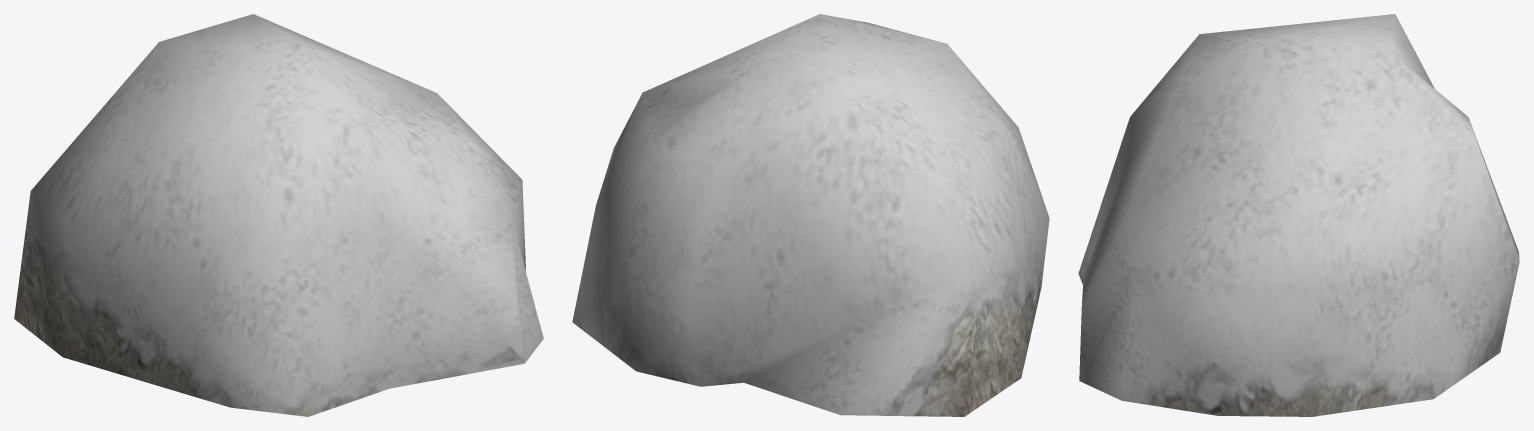
Rendered from general_obj_stone19_lod_01.fbx.
3 views of the same model, side by side, from view 1: azimuth 30°, elevation 25°; view 2: azimuth 150°, elevation 25°; view 3: azimuth 270°, elevation 25° (orthographic). The views are drawn at different scales.
Parts seen in each view (by area): view 1: Sphere01; view 2: Sphere01; view 3: Sphere01.
Boxes of the visible parts, left/top/right/bottom form: Sphere01: left=14, top=14, right=543, bottom=416; Sphere01: left=572, top=14, right=1049, bottom=416; Sphere01: left=1078, top=14, right=1519, bottom=416.
Bounding box in the file's own units: 6.98 × 4.45 × 6.36.
